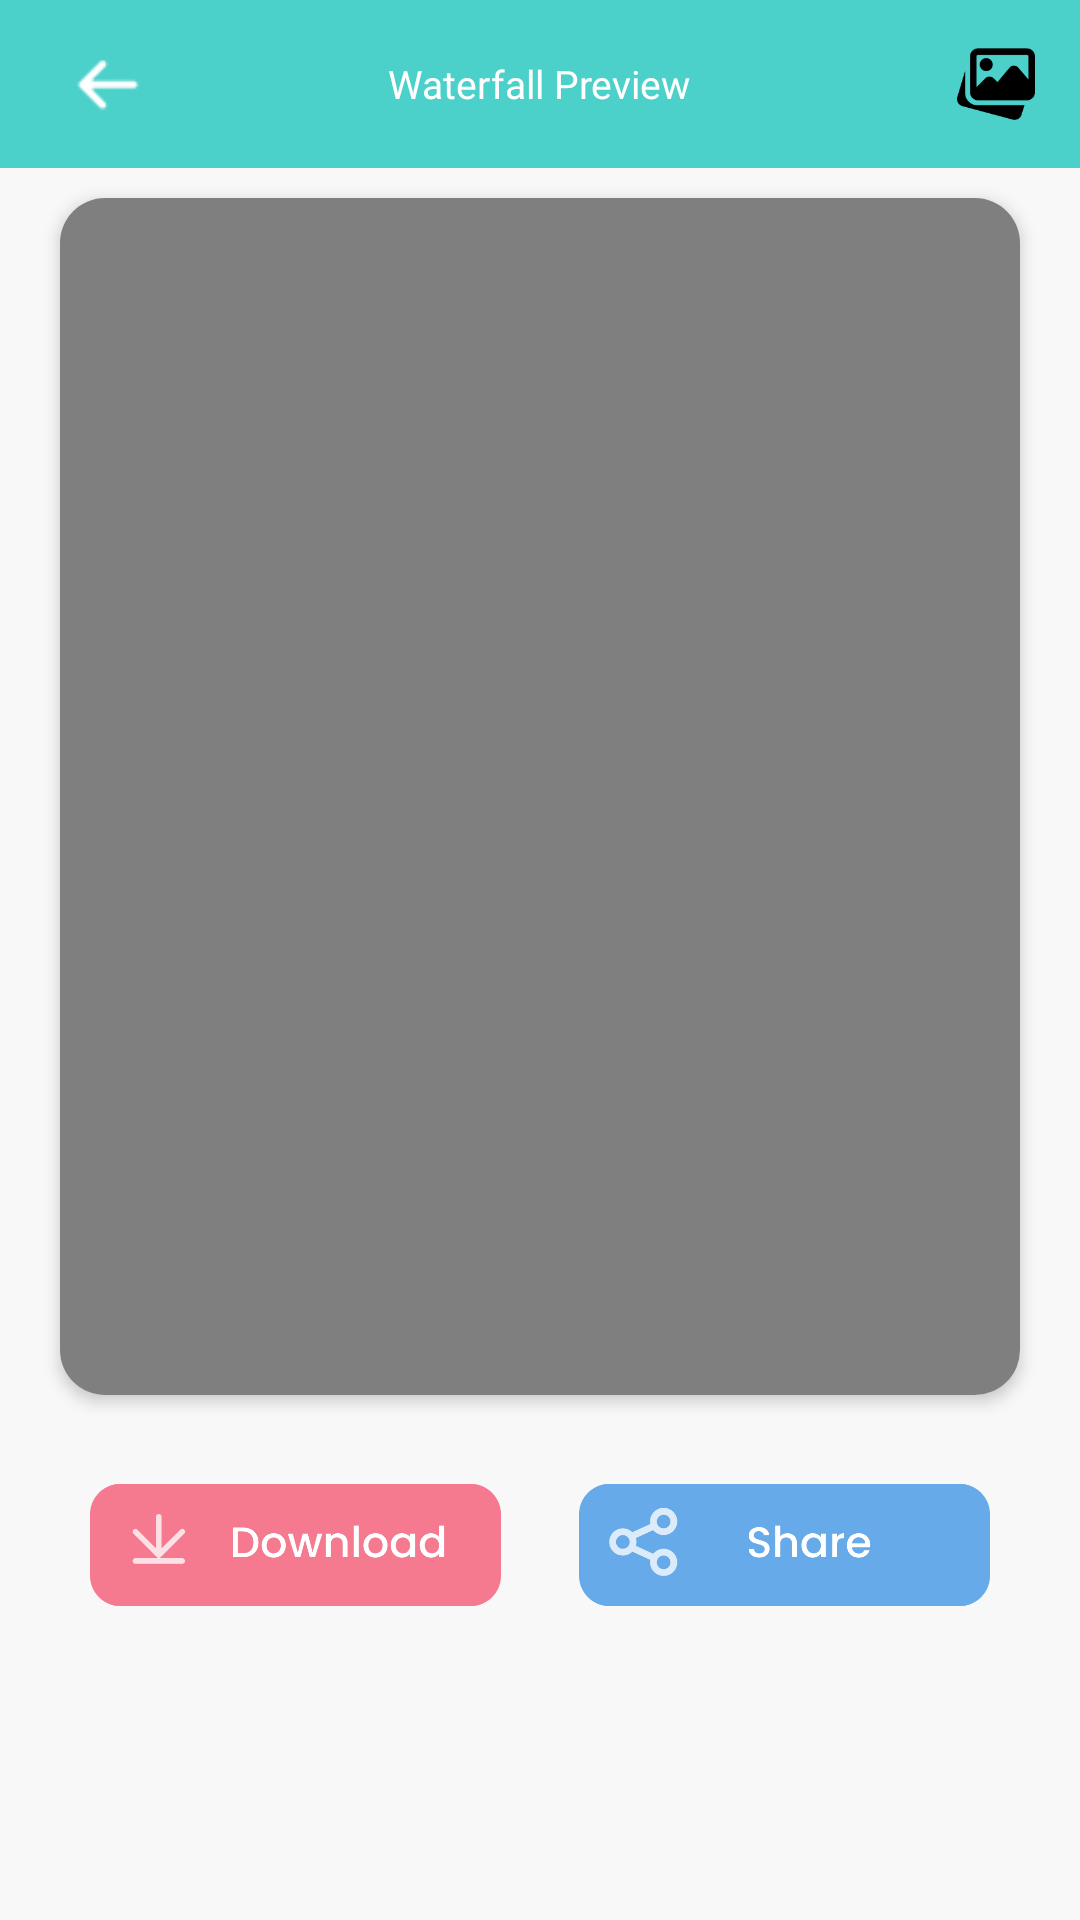

Screen size 1080×1920. Icon name, then its box in pixels as detection(x1, y1, x2, y2):
back: detection(77, 60, 139, 110)
